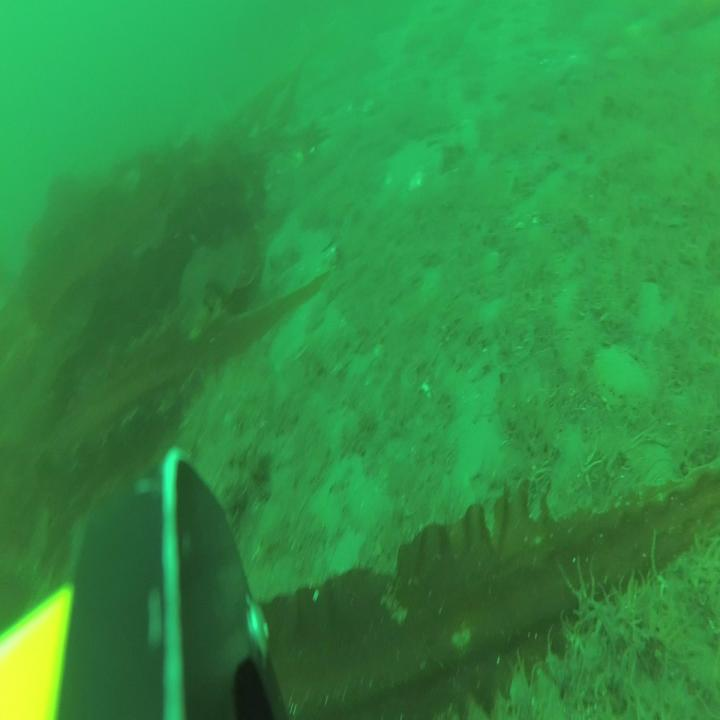scallop: (593, 342, 653, 406), (626, 277, 661, 335)
